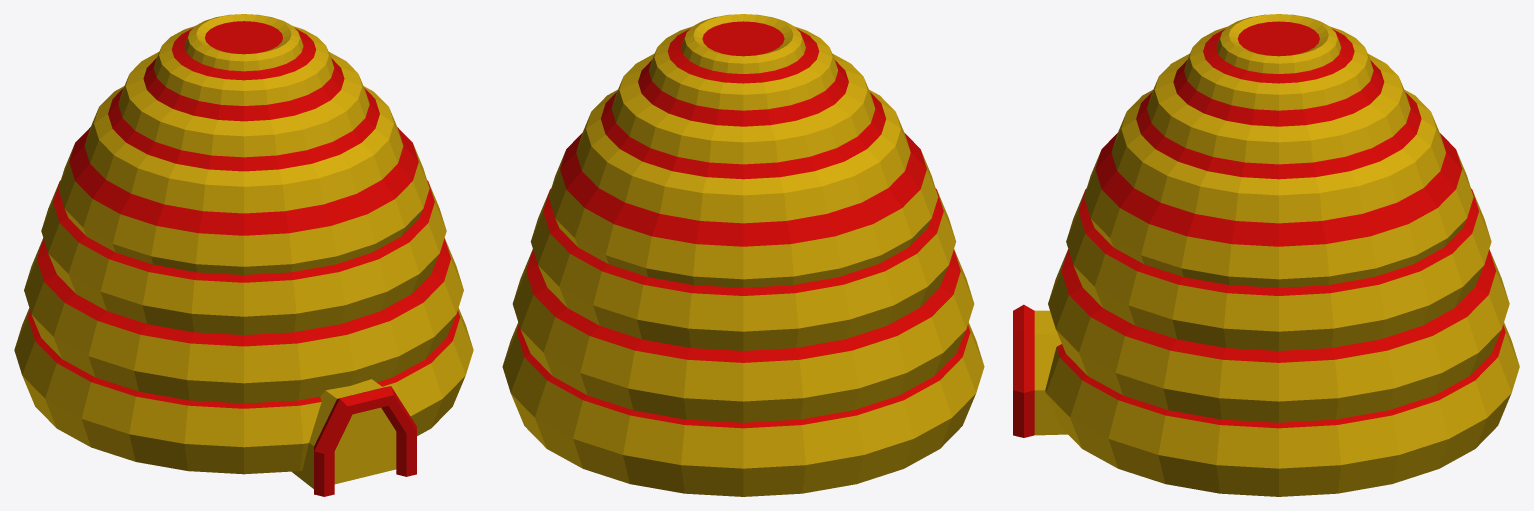
File: Hive_Player_Red.fbx
3 renders of one model, left to right at view 1: azimuth 30°, elevation 25°; view 2: azimuth 150°, elevation 25°; view 3: azimuth 270°, elevation 25°, orthographic. The views are drawn at different scales.
Parts seen in each view (by area): view 1: Hive_Player_Red; view 2: Hive_Player_Red; view 3: Hive_Player_Red.
Part boxes in pixels (box(x1,y1,x2,y2)): Hive_Player_Red: box(14, 14, 473, 496); Hive_Player_Red: box(502, 14, 984, 496); Hive_Player_Red: box(1013, 14, 1519, 496).
Size of the model in its own units: 450 by 392 by 473.
